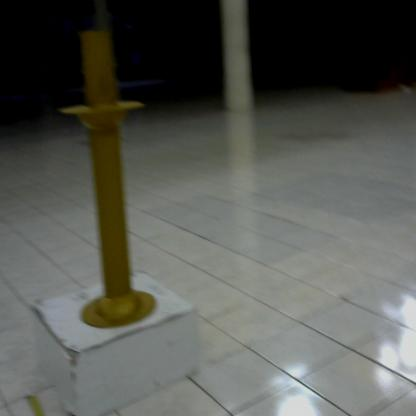pole: (56, 22, 171, 340)
